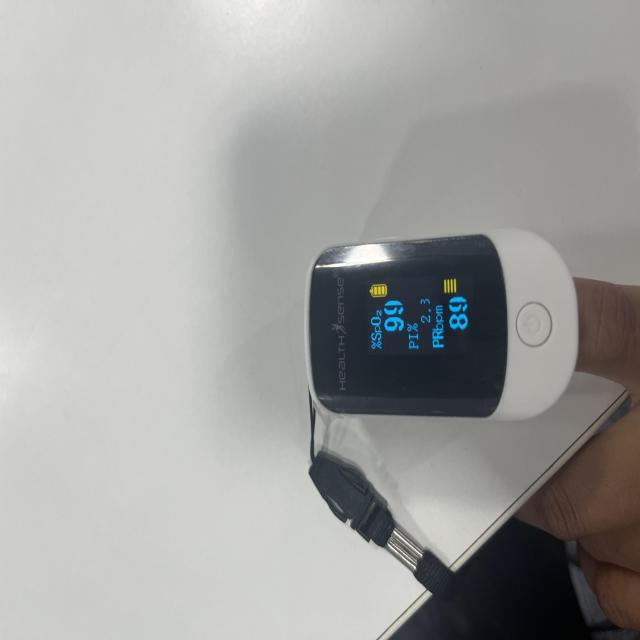spo2: (307, 228, 621, 580)
